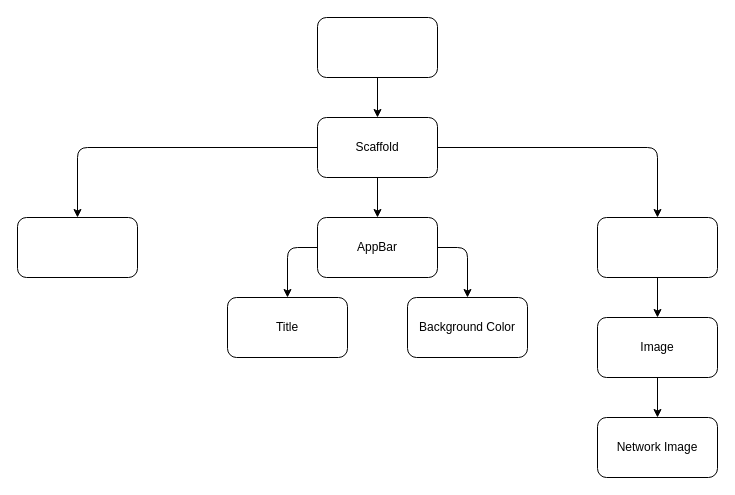
Image size: 735x495. Some labels were removed from this diagram. The centre of each missing label's shape, as x and y in pixels:
"Center" goes at [657,247].
"Color" goes at [77,247].
"Material App" goes at [377,47].
